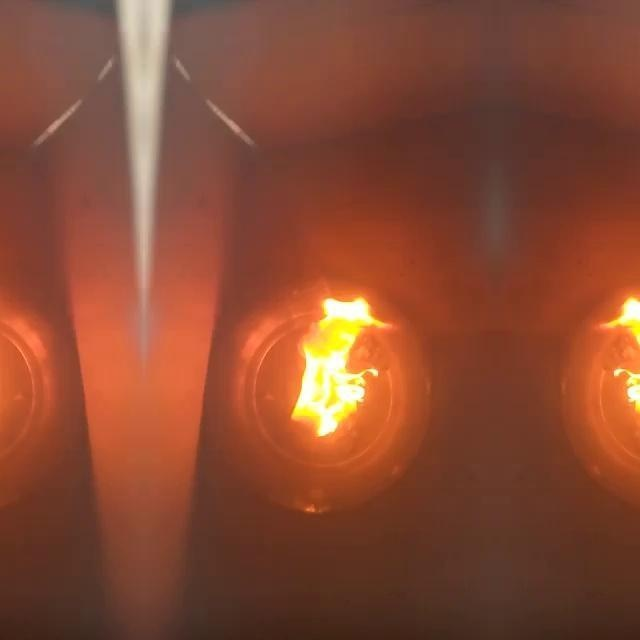fire: (243, 269, 401, 475), (563, 263, 640, 434)
